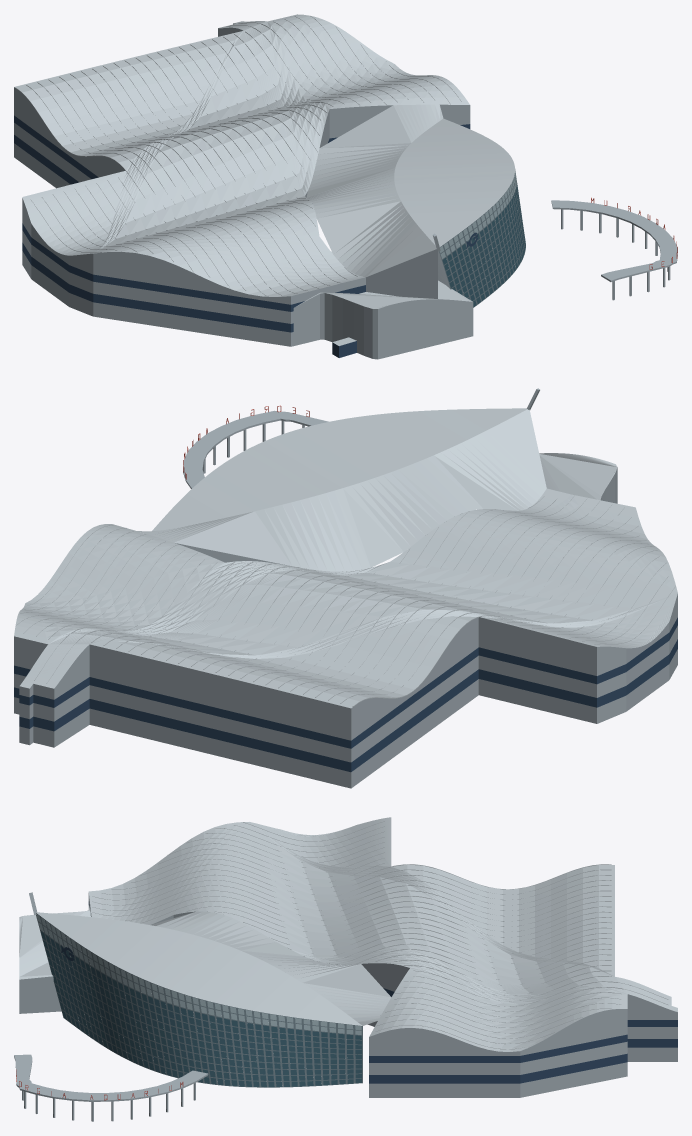
Rendered from georgia-aquarium-near.glb.
3 views of the same model, one above another, from view 1: azimuth 30°, elevation 25°; view 2: azimuth 150°, elevation 25°; view 3: azimuth 270°, elevation 25° (orthographic). The views are drawn at different scales.
Parts seen in each view (by area): view 1: georgia-aquarium-0-roof, georgia-aquarium-0-silver, georgia-aquarium-0-blue, georgia-aquarium-0-glass, georgia-aquarium-0-frame, georgia-aquarium-0-glow; view 2: georgia-aquarium-0-roof, georgia-aquarium-0-silver, georgia-aquarium-0-blue; view 3: georgia-aquarium-0-roof, georgia-aquarium-0-silver, georgia-aquarium-0-glass, georgia-aquarium-0-frame, georgia-aquarium-0-blue, georgia-aquarium-0-glow.
Part boxes in pixels (x1,y1,x2,y2): georgia-aquarium-0-roof: (14,14,514,345); georgia-aquarium-0-silver: (14,23,677,359); georgia-aquarium-0-blue: (14,115,477,357); georgia-aquarium-0-glass: (442,183,525,307); georgia-aquarium-0-frame: (439,170,525,307); georgia-aquarium-0-glow: (439,169,516,258); georgia-aquarium-0-roof: (14,408,677,708); georgia-aquarium-0-silver: (14,388,677,788); georgia-aquarium-0-blue: (14,617,677,772); georgia-aquarium-0-roof: (19,817,677,1051); georgia-aquarium-0-silver: (14,892,677,1121); georgia-aquarium-0-glass: (40,931,361,1087); georgia-aquarium-0-frame: (36,913,362,1087); georgia-aquarium-0-blue: (61,901,677,1083); georgia-aquarium-0-glow: (36,914,361,1034).
Bounding box in the file's own units: 183 × 37 × 211.
